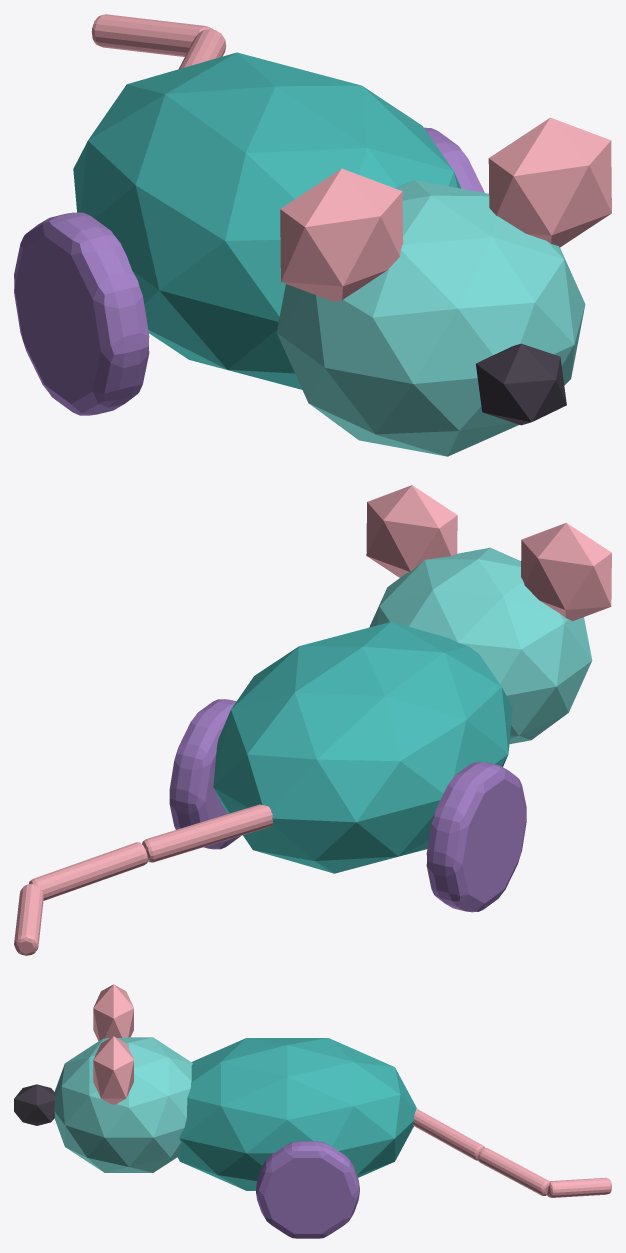
The model's file is ToyMouse.fbx.
The picture shows the model from 3 angles, top to bottom: view 1: azimuth 30°, elevation 25°; view 2: azimuth 150°, elevation 25°; view 3: azimuth 270°, elevation 25°; orthographic projection. The views are drawn at different scales.
Parts seen in each view (by area): view 1: Mouse_Body, Mouse_Head, Mouse_WheelL, Mouse_EarL, Mouse_EarR, Mouse_Nose, Mouse_Tail_02, Mouse_WheelR, Mouse_Tail_01; view 2: Mouse_Body, Mouse_Head, Mouse_WheelL, Mouse_EarL, Mouse_EarR, Mouse_WheelR, Mouse_Tail_00, Mouse_Tail_01, Mouse_Tail_02; view 3: Mouse_Body, Mouse_Head, Mouse_WheelR, Mouse_EarR, Mouse_EarL, Mouse_Nose, Mouse_Tail_01, Mouse_Tail_00, Mouse_Tail_02.
Part boxes in pixels (x1,y1,x2,y2): Mouse_Body: (73, 52, 461, 389); Mouse_Head: (276, 180, 585, 456); Mouse_WheelL: (14, 212, 149, 415); Mouse_EarL: (280, 168, 403, 301); Mouse_EarR: (488, 117, 611, 247); Mouse_Nose: (476, 343, 566, 425); Mouse_Tail_02: (91, 14, 213, 56); Mouse_WheelR: (424, 127, 484, 192); Mouse_Tail_01: (179, 29, 226, 68); Mouse_Body: (213, 621, 512, 873); Mouse_Head: (369, 547, 592, 744); Mouse_WheelL: (426, 762, 526, 912); Mouse_EarL: (521, 522, 611, 621); Mouse_EarR: (366, 485, 457, 577); Mouse_WheelR: (169, 699, 240, 849); Mouse_Tail_00: (142, 804, 272, 862); Mouse_Tail_01: (29, 842, 147, 900); Mouse_Tail_02: (14, 883, 43, 955); Mouse_Body: (177, 1038, 417, 1190); Mouse_Head: (54, 1037, 192, 1172); Mouse_WheelR: (256, 1141, 359, 1238); Mouse_EarR: (93, 1036, 133, 1104); Mouse_EarL: (93, 984, 133, 1041); Mouse_Nose: (14, 1084, 54, 1125); Mouse_Tail_01: (478, 1148, 549, 1195); Mouse_Tail_00: (413, 1108, 484, 1160); Mouse_Tail_02: (547, 1177, 611, 1197).
Bounding box in the file's own units: 0.4601 × 0.3949 × 1.17.
